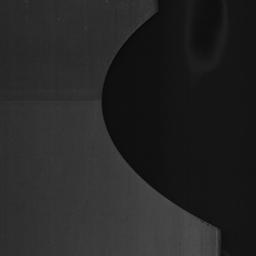Crescent gap: (101, 6, 218, 228)
